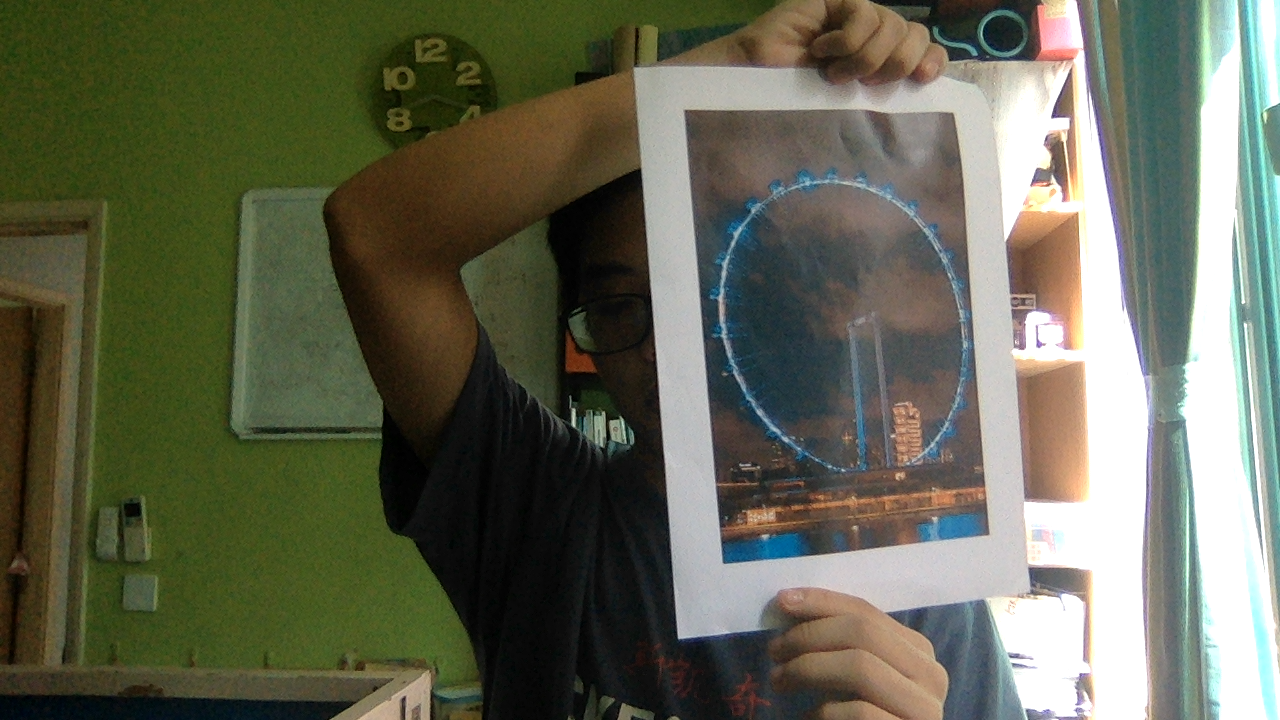Flyer: (683, 104, 992, 543)
